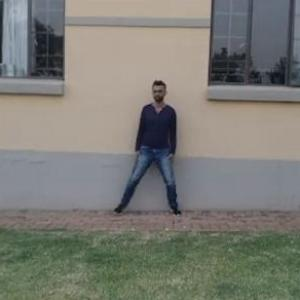follow: (136, 78, 178, 219)
